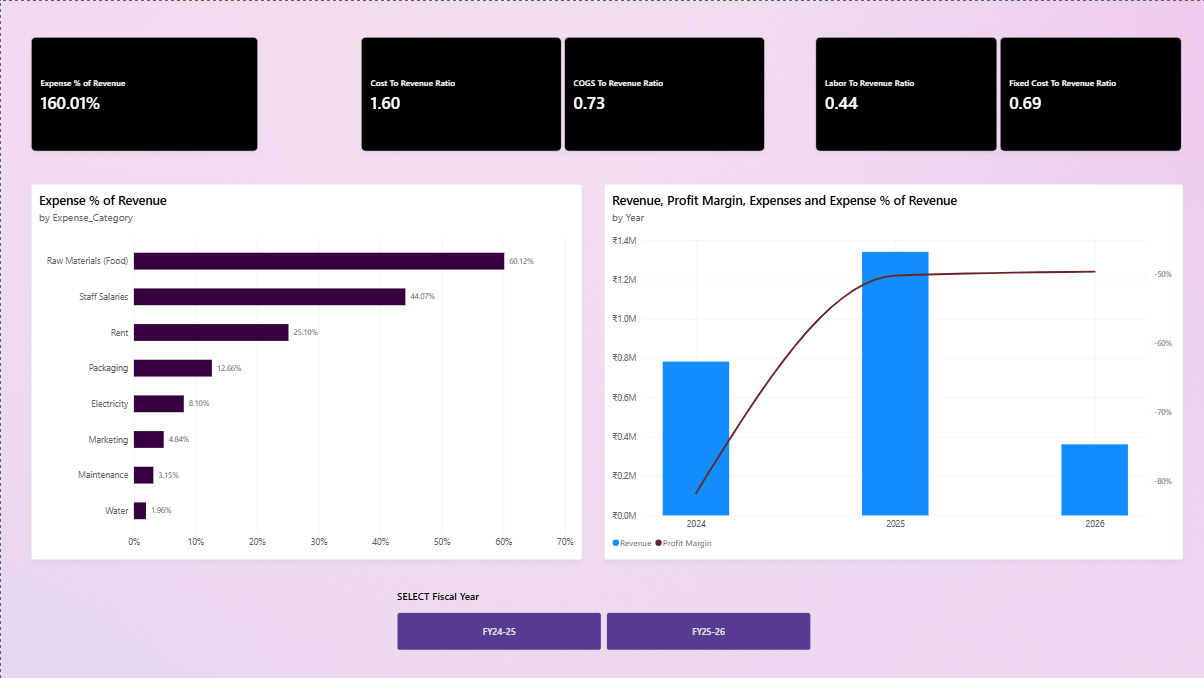

What the dashboard file says about the page in this screenshot:
{"tool":"powerbi","page":{"name":"Profitability Drivers","canvas":[1920,1080],"ordinal":3},"visuals":[{"type":"cardVisual","fields":{"Data":["Key Measures Table.Cost To Revenue Ratio","Key Measures Table.COGS_To_Revenue_Ratio"]},"box":[572.1,56.3,642.4,182.9],"z":0},{"type":"clusteredBarChart","fields":{"Category":["Expenses.Expense_Category"],"Y":["Key Measures Table.Expense % of Revenue"]},"box":[46.9,290.7,876.8,597.8],"z":1000},{"type":"cardVisual","fields":{"Data":["Key Measures Table.Expense % of Revenue"]},"box":[46.9,56.3,361.1,182.9],"z":2000},{"type":"lineClusteredColumnComboChart","fields":{"Category":["DimDate.Year","DimDate.FiscalMonthName"],"Y":["Key Measures Table.Revenue"],"Y2":["Key Measures Table.Profit Margin"]},"box":[958.9,290.7,921.4,597.8],"z":3000},{"type":"cardVisual","fields":{"Data":["Key Measures Table.Labor To Revenue Ratio","Key Measures Table.Fixed Cost To Revenue Ratio"]},"box":[1296.5,56.3,583.8,182.9],"z":4000},{"type":"advancedSlicerVisual","fields":{"Values":["DimDate.FiscalYear"]},"box":[629.9,935.3,658.5,97.8],"z":5000}]}

Visuals, with their boxes in screenshot pixels (x1, y1, x2, y2), scaled from the page's 1920x1080 canvas onto the 1204x678 screenshot:
cardVisual - Key Measures Table.Cost To Revenue Ratio x Key Measures Table.COGS_To_Revenue_Ratio: 359 35 762 150
clusteredBarChart - Expenses.Expense_Category x Key Measures Table.Expense % of Revenue: 29 182 579 558
cardVisual - Key Measures Table.Expense % of Revenue: 29 35 256 150
lineClusteredColumnComboChart - DimDate.Year x DimDate.FiscalMonthName: 601 182 1179 558
cardVisual - Key Measures Table.Labor To Revenue Ratio x Key Measures Table.Fixed Cost To Revenue Ratio: 813 35 1179 150
advancedSlicerVisual - DimDate.FiscalYear: 395 587 808 649
